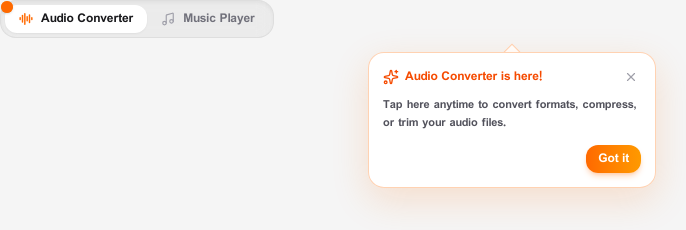
Scenario: ToolSwitcher › shows first-time converter onboarding guide and dismisses on button click
Expected: the text "Audio Converter is here!" is shown, [405, 69, 542, 85]
Click the button "Got it" at (614, 159), box [586, 145, 641, 173]
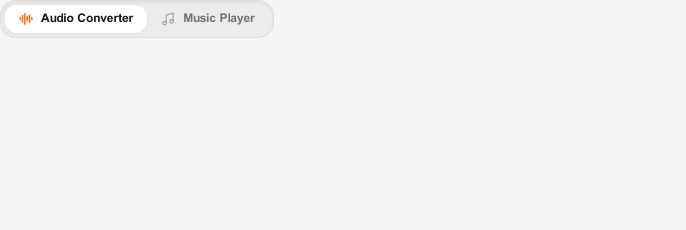
Expected: the text "Audio Converter is here!" is gone
